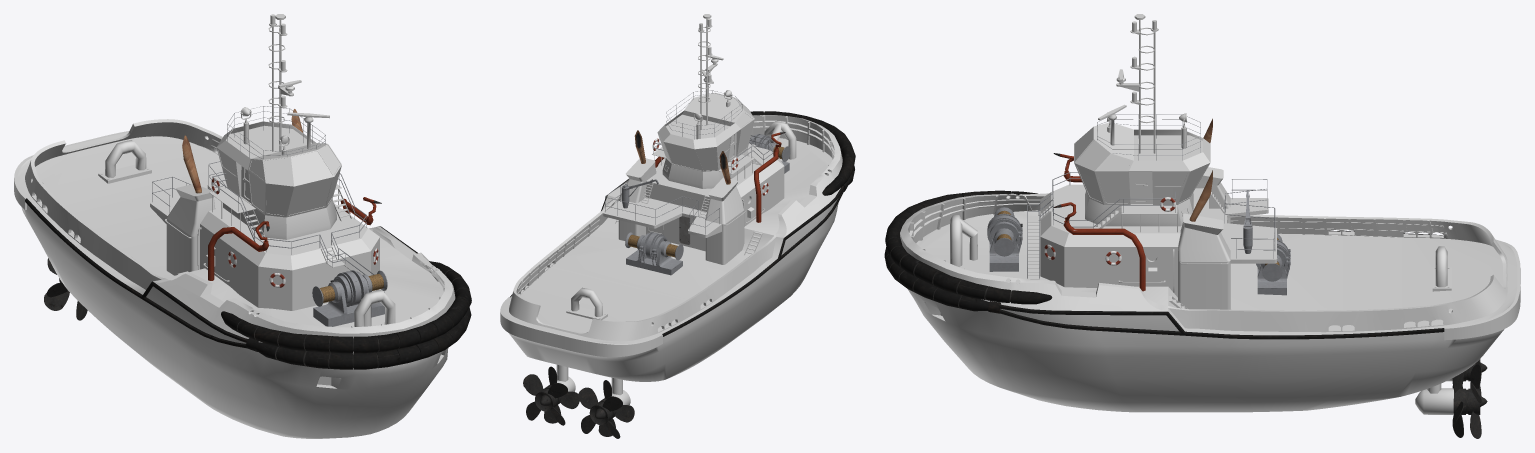
Rendered from rastar_3200_tugboat.fbx.
3 views of the same model, side by side, from view 1: azimuth 30°, elevation 25°; view 2: azimuth 150°, elevation 25°; view 3: azimuth 270°, elevation 25° (orthographic). The views are drawn at different scales.
Parts seen in each view (by area): view 1: Object_15, Object_5, Object_29, Object_11, Object_13, Object_25, Object_27; view 2: Object_15, Object_5, Object_29, Object_21, Object_25, Object_11, Object_13, Object_27; view 3: Object_15, Object_5, Object_29, Object_11, Object_21, Object_13, Object_19.
Boxes of the visible parts, box(x1,y1,x2,y2) form: Object_15: box(14, 14, 455, 438); Object_5: box(25, 198, 471, 369); Object_29: box(312, 270, 387, 326); Object_11: box(152, 106, 384, 292); Object_13: box(208, 197, 381, 280); Object_25: box(44, 258, 87, 320); Object_27: box(182, 109, 302, 193); Object_15: box(500, 14, 842, 381); Object_5: box(510, 111, 855, 336); Object_29: box(625, 134, 790, 275); Object_21: box(523, 366, 579, 425); Object_25: box(578, 380, 634, 438); Object_11: box(605, 90, 773, 234); Object_13: box(655, 132, 785, 222); Object_27: box(634, 130, 730, 184); Object_15: box(900, 14, 1520, 412); Object_5: box(884, 190, 1444, 339); Object_29: box(987, 207, 1290, 295); Object_11: box(1027, 114, 1275, 278); Object_21: box(1452, 364, 1487, 438); Object_13: box(1053, 153, 1145, 291); Object_19: box(1415, 384, 1453, 414).
Bounding box in the file's own units: 1351 × 2305 × 3289.
2 materials, 1 textured.
